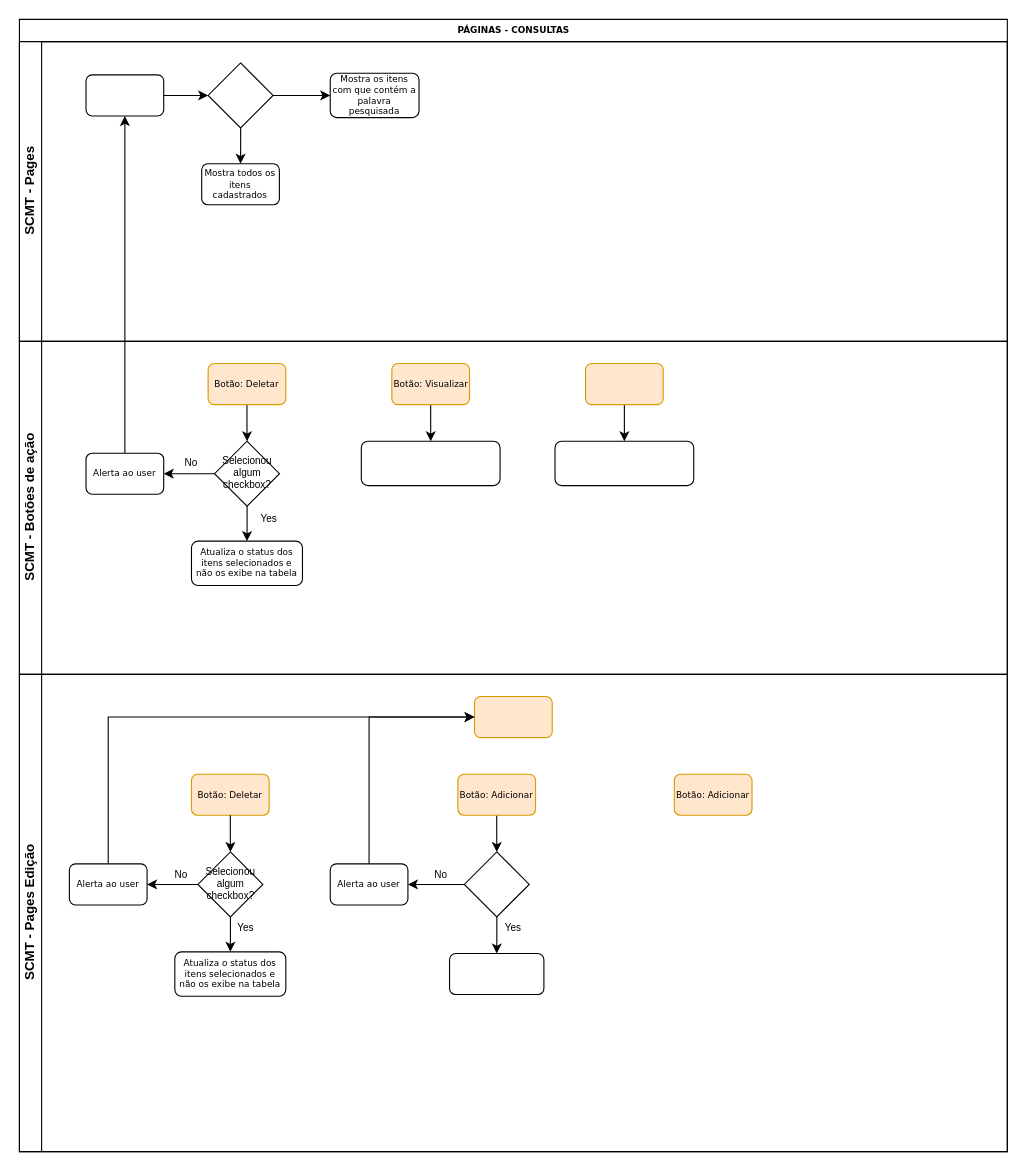
Image size: 1027x1171. Some labels were removed from this diagram. The shapes that lost their labels are listed below. From the top down, each one's centre as x and y in pixels, then its label:
At point 124,95: "Acessa a página".
At point 240,95: "Pesquisou por alguma palavra?".
At point 623,383: "Botão: Editar".
At point 430,463: "Exibe os itens secundários relacionados com o item principal que foi clicado".
At point 624,463: "Abre a página com todos os itens para edição".
At point 512,716: "Acessa a página para edição".
At point 496,884: "Campos preenchidos?".
At point 496,973: "Cadastra o item secundário e vincula ao item principal".
